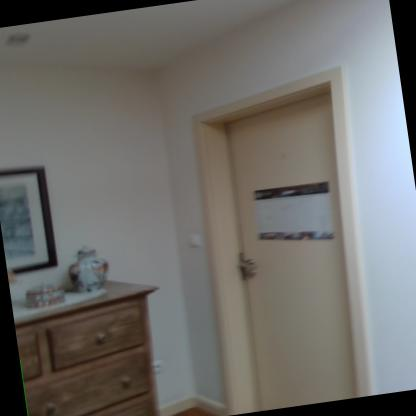closed: (180, 73, 387, 416)
